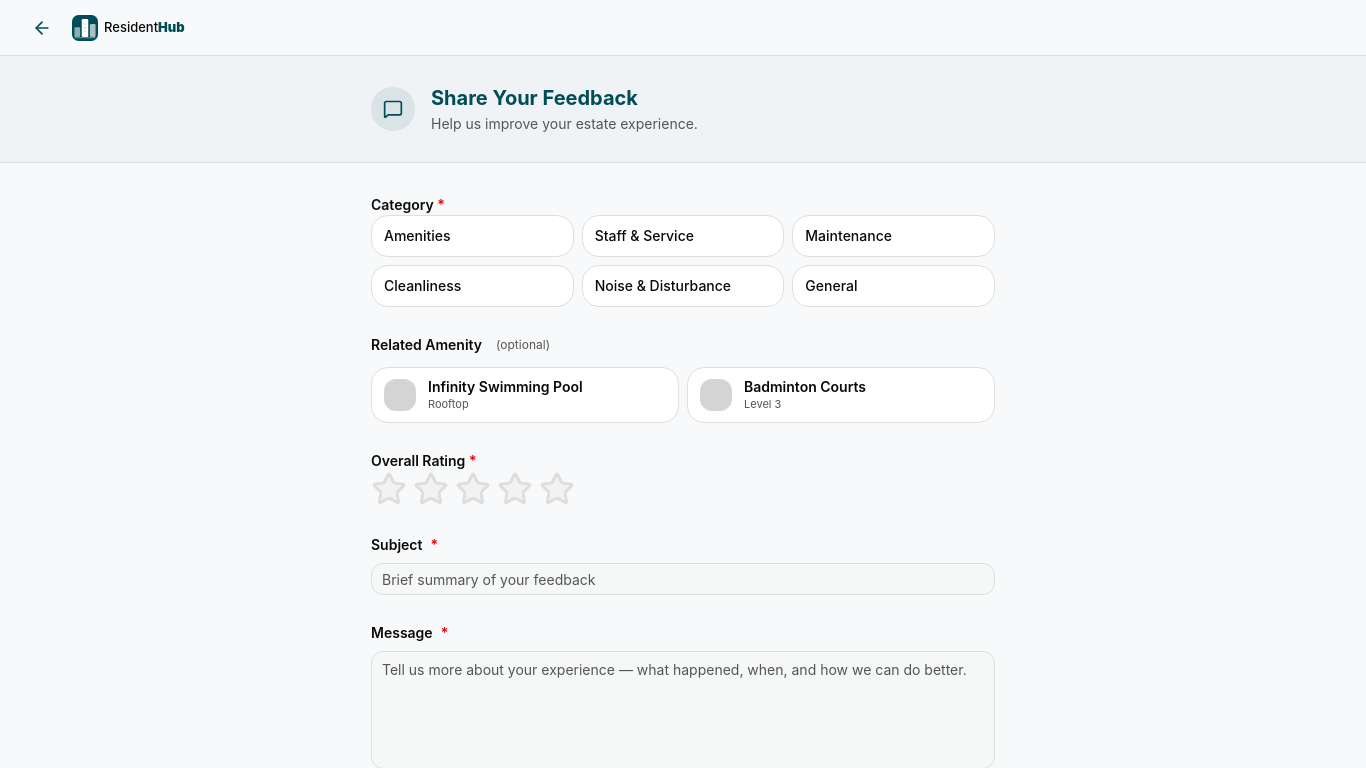
Test: FeedbackPage › shows the rating label when a star is selected
Click the radio button named "5 stars — excellent". click: (557, 489)
box: [539,471,575,507]
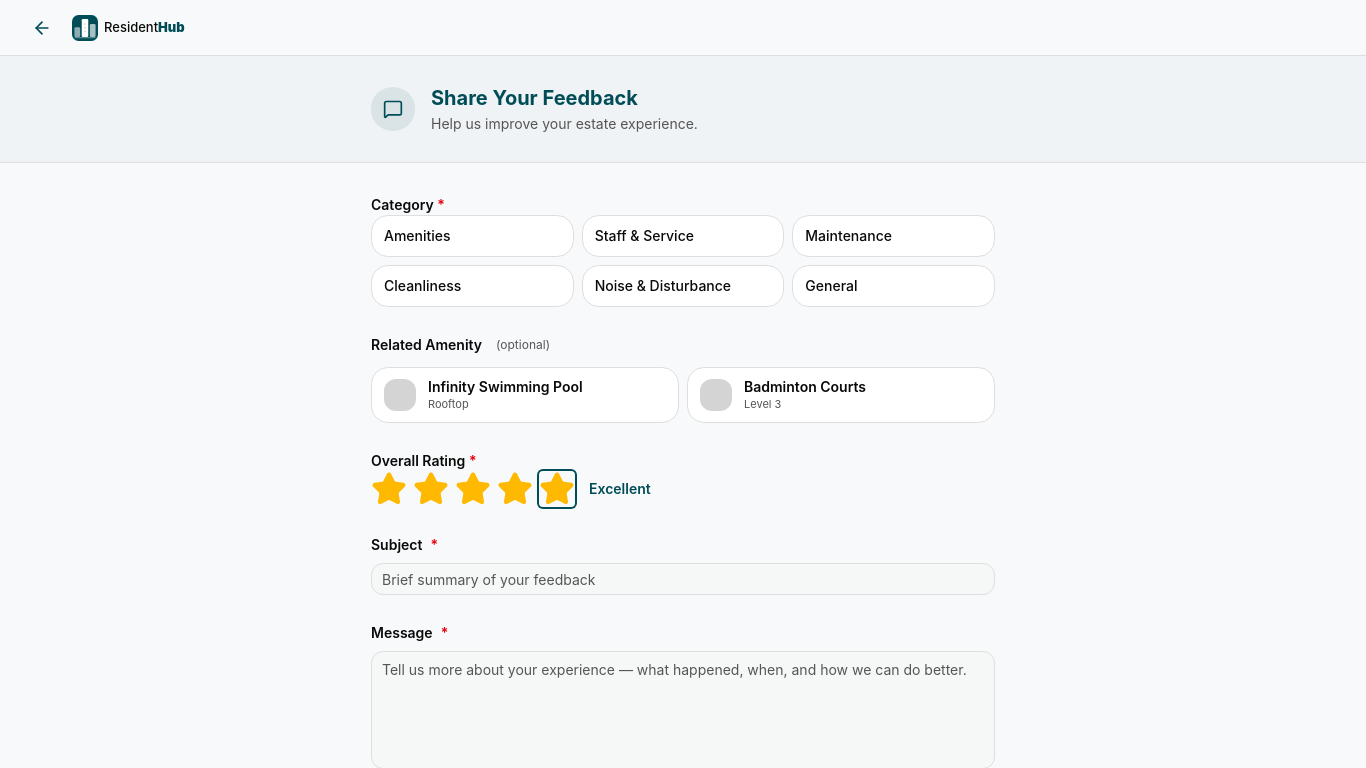
Check: the text "Excellent" is shown, box [589,479,651,499]
